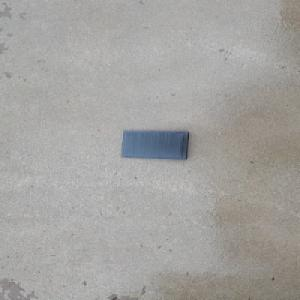PlasticPart: (118, 129, 189, 160)
